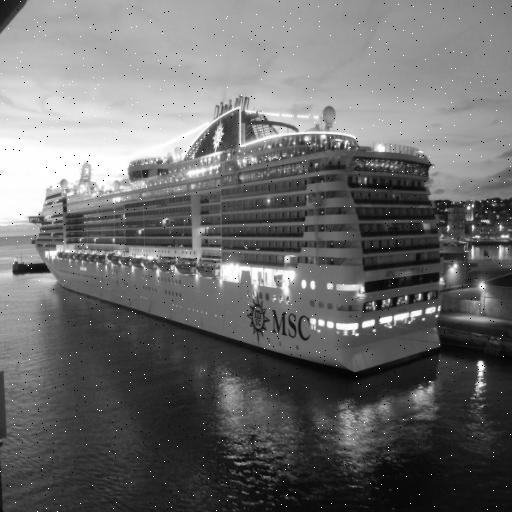cruises: (29, 94, 445, 381)
